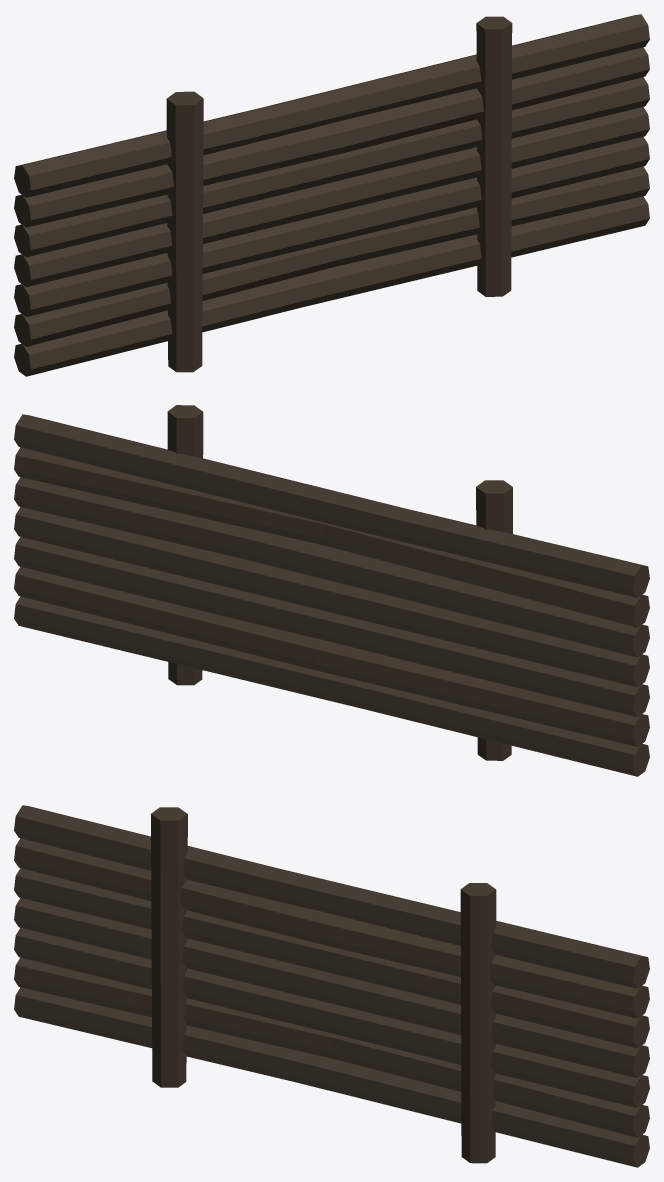
File: trenches-wood.fbx
3 renders of one model, top to bottom at view 1: azimuth 30°, elevation 25°; view 2: azimuth 150°, elevation 25°; view 3: azimuth 330°, elevation 25°, orthographic.
Parts seen in each view (by area): view 1: trenches-wood; view 2: trenches-wood; view 3: trenches-wood.
Part boxes in pixels (x1=…): trenches-wood: x1=14, y1=14, x2=649, y2=376; trenches-wood: x1=14, y1=405, x2=649, y2=776; trenches-wood: x1=14, y1=805, x2=649, y2=1167.
Bounding box in the file's own units: 4 × 1.65 × 0.322.
